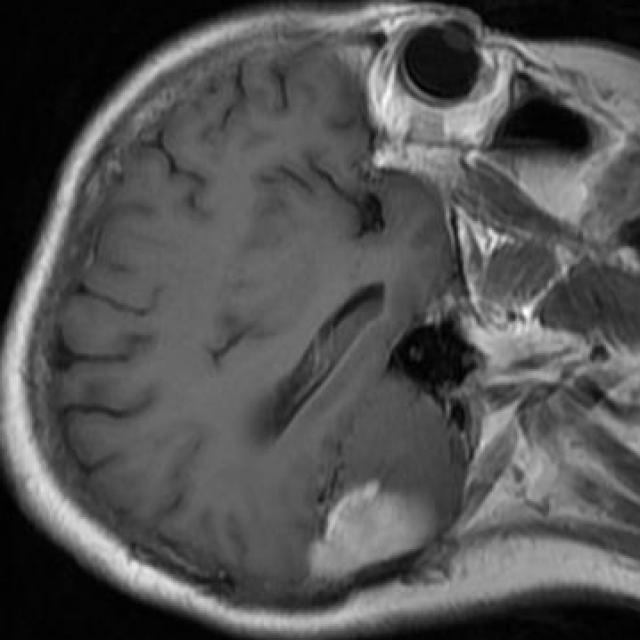meningioma: (314, 481, 433, 578)
